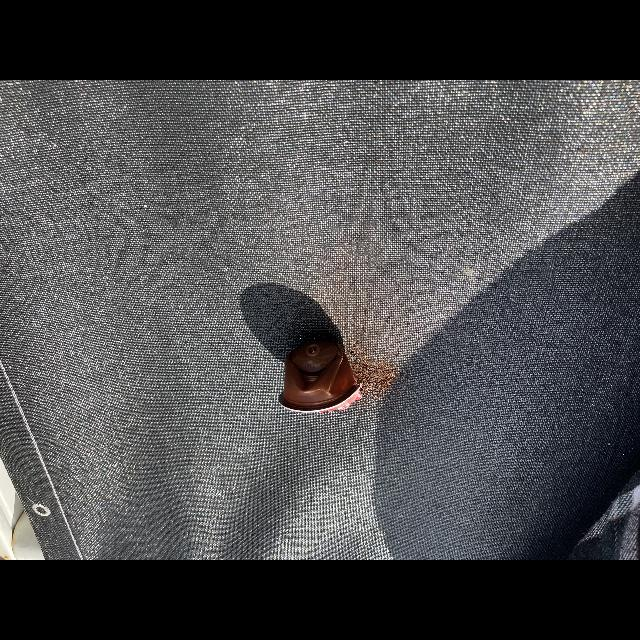damaged_capsule: (276, 331, 364, 421)
